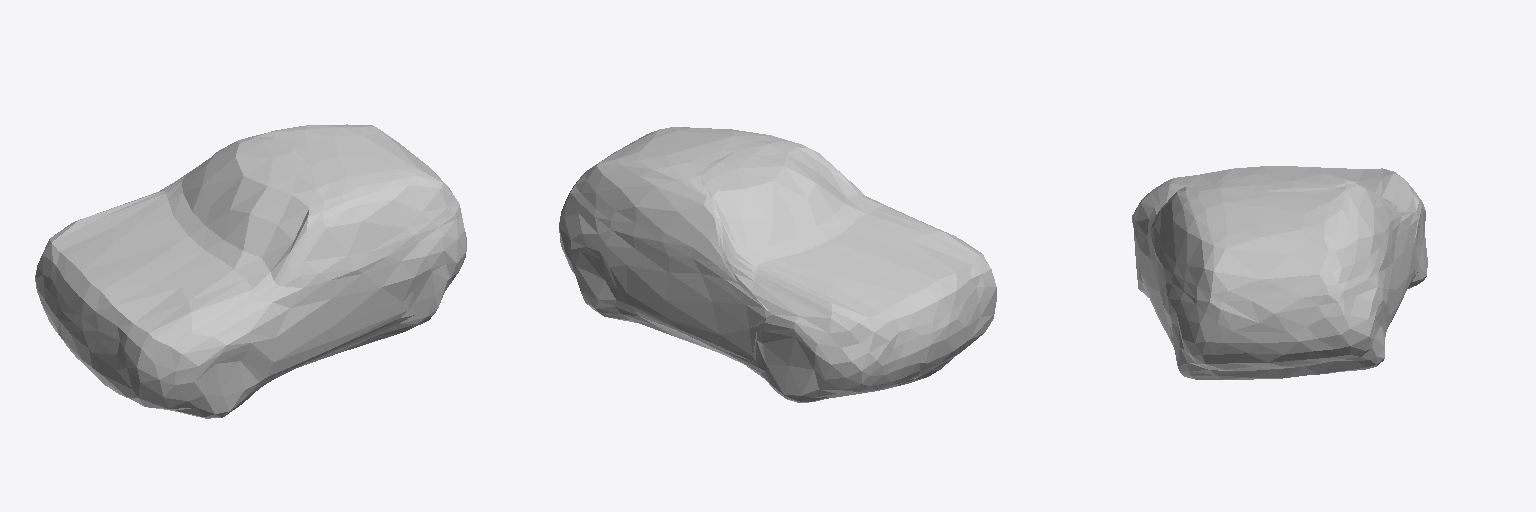
Rendered from video3_33.obj.
3 renders of one model, left to right at view 1: azimuth 30°, elevation 25°; view 2: azimuth 150°, elevation 25°; view 3: azimuth 270°, elevation 25°, orthographic.
Bounding box in the file's own units: 1 × 0.4712 × 0.7036.